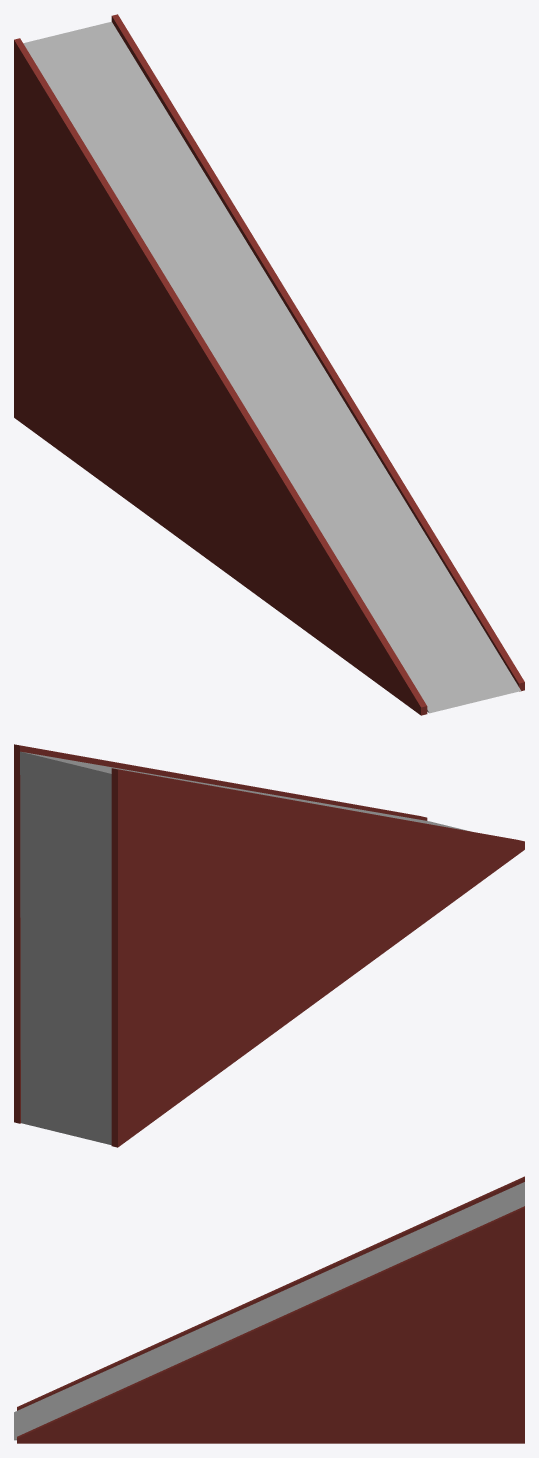
Rendered from em_stairs_minotaur.fbx.
3 views of the same model, one above another, from view 1: azimuth 30°, elevation 25°; view 2: azimuth 150°, elevation 25°; view 3: azimuth 270°, elevation 25° (orthographic). The views are drawn at different scales.
Parts seen in each view (by area): view 1: group135; view 2: group135; view 3: group135.
Boxes of the visible parts, x1,y1,x2,y2 form: group135: (14, 14, 524, 715); group135: (14, 744, 524, 1147); group135: (14, 1176, 524, 1443).
Bounding box in the file's own units: 1700 × 5910 × 11608.
